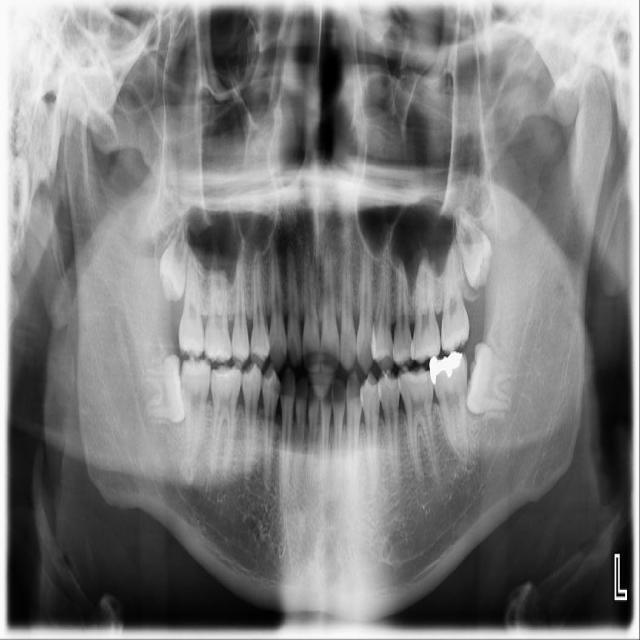Filling: (429, 350, 464, 385)
impacted tooth: (467, 341, 532, 414), (136, 355, 185, 423), (454, 208, 491, 287), (157, 214, 187, 296)
